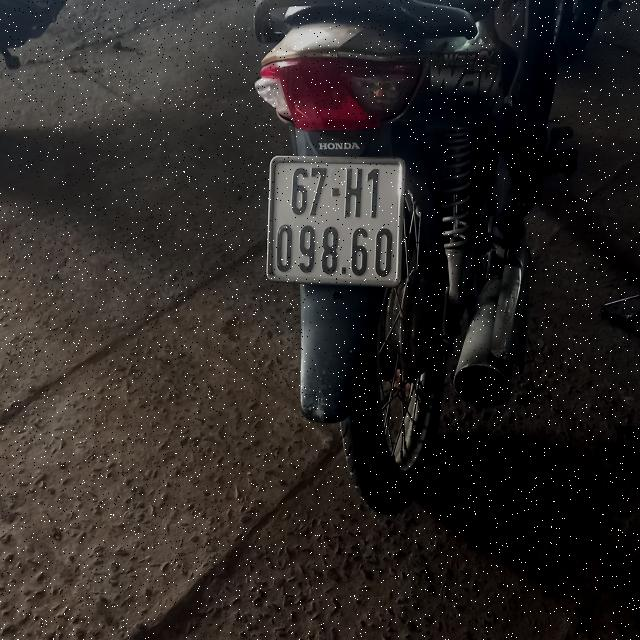0: (375, 228, 392, 277), (276, 224, 292, 272)
1: (368, 168, 378, 218)
6: (351, 226, 368, 280), (292, 168, 307, 214)
7: (310, 168, 328, 218)
8: (322, 227, 337, 274)
9: (298, 225, 315, 272)
H: (345, 168, 362, 219)
